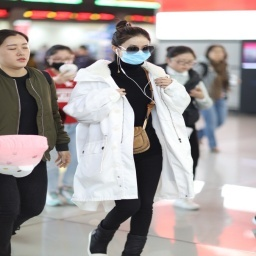correctlyWear: (111, 37, 152, 65), (47, 52, 73, 70)
noWear: (1, 40, 30, 68), (167, 54, 194, 71), (208, 48, 227, 63)
